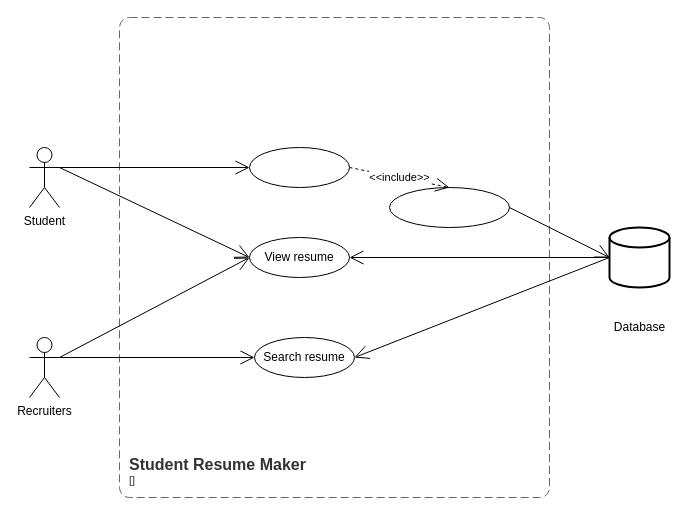
The diagram is 692 pixels wide and 515 high, and some of its shapes have lost their labels. Each missing label, with the box of its shape:
Input resume information: (248, 146, 350, 188)
Standard Formate: (388, 186, 510, 228)
